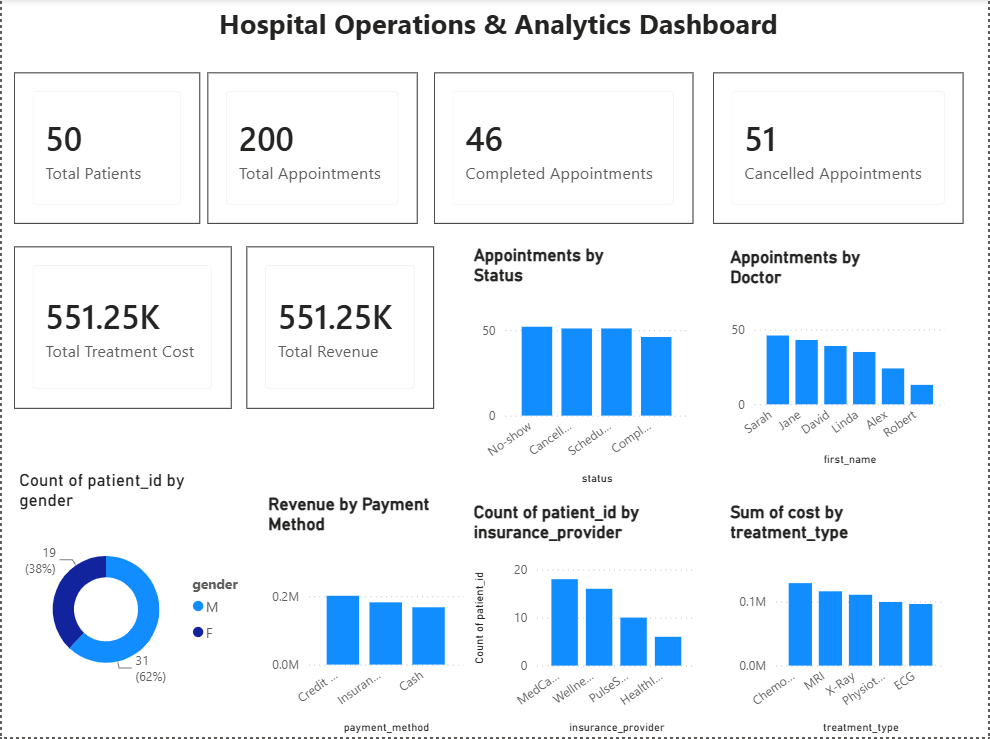

Layout of this report page (visuals, bound fields, positions):
{"tool":"powerbi","page":{"name":"Page 1","canvas":[960,720],"ordinal":0},"visuals":[{"type":"textbox","box":[173.9,0,612.4,52.6],"z":0},{"type":"cardVisual","fields":{"Data":["patients.Total Patients"]},"box":[11.7,71.6,181.2,147.6],"z":1000},{"type":"cardVisual","fields":{"Data":["appointments.Total Appointments"]},"box":[200.2,71.6,204.6,147.6],"z":2000},{"type":"cardVisual","fields":{"Data":["appointments.Completed Appointments"]},"box":[420.9,71.6,252.8,147.6],"z":3000},{"type":"cardVisual","fields":{"Data":["appointments.Cancelled Appointments"]},"box":[692.7,71.6,244.1,147.6],"z":4000},{"type":"cardVisual","fields":{"Data":["billing.Total Revenue"]},"box":[238.2,241.1,182.7,157.8],"z":5000},{"type":"cardVisual","fields":{"Data":["treatments.Total Treatment Cost"]},"box":[11.7,241.1,211.9,157.8],"z":6000},{"type":"clusteredColumnChart","title":"Appointments by Status","fields":{"Category":["appointments.status"],"Y":["CountNonNull(appointments.appointment_id)"]},"box":[454.5,239.7,219.2,238.2],"z":7000},{"type":"clusteredColumnChart","title":"Appointments by Doctor","fields":{"Category":["doctors.first_name"],"Y":["CountNonNull(appointments.appointment_id)"]},"box":[704.4,241.1,219.2,217.8],"z":8000},{"type":"clusteredColumnChart","title":"Revenue by Payment Method","fields":{"Category":["billing.payment_method"],"Y":["Sum(billing.amount)"]},"box":[254.3,482.3,200.2,238.2],"z":9000},{"type":"donutChart","fields":{"Category":["patients.gender"],"Y":["CountNonNull(patients.patient_id)"]},"box":[11.7,458.9,242.6,219.2],"z":10000},{"type":"clusteredColumnChart","fields":{"Category":["patients.insurance_provider"],"Y":["CountNonNull(patients.patient_id)"]},"box":[454.5,489.6,226.5,230.9],"z":11000},{"type":"clusteredColumnChart","fields":{"Category":["treatments.treatment_type"],"Y":["Sum(treatments.cost)"]},"box":[704.4,489.6,219.2,230.9],"z":12000}]}

Visuals, with their boxes in screenshot pixels (x1, y1, x2, y2), scaled from the page's 960x720 canvas onto the 990x739 screenshot:
textbox: [x1=179, y1=0, x2=811, y2=54]
cardVisual - patients.Total Patients: [x1=12, y1=73, x2=199, y2=225]
cardVisual - appointments.Total Appointments: [x1=206, y1=73, x2=417, y2=225]
cardVisual - appointments.Completed Appointments: [x1=434, y1=73, x2=695, y2=225]
cardVisual - appointments.Cancelled Appointments: [x1=714, y1=73, x2=966, y2=225]
cardVisual - billing.Total Revenue: [x1=246, y1=247, x2=434, y2=409]
cardVisual - treatments.Total Treatment Cost: [x1=12, y1=247, x2=231, y2=409]
"Appointments by Status" clusteredColumnChart: [x1=469, y1=246, x2=695, y2=491]
"Appointments by Doctor" clusteredColumnChart: [x1=726, y1=247, x2=952, y2=471]
"Revenue by Payment Method" clusteredColumnChart: [x1=262, y1=495, x2=469, y2=738]
donutChart - patients.gender x CountNonNull(patients.patient_id): [x1=12, y1=471, x2=262, y2=696]
clusteredColumnChart - patients.insurance_provider x CountNonNull(patients.patient_id): [x1=469, y1=503, x2=702, y2=738]
clusteredColumnChart - treatments.treatment_type x Sum(treatments.cost): [x1=726, y1=503, x2=952, y2=738]
